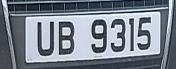1: (126, 13, 137, 55)
3: (109, 14, 127, 57)
5: (136, 12, 153, 55)
9: (89, 16, 109, 57)
B: (56, 16, 78, 61)
U: (34, 15, 56, 62)
